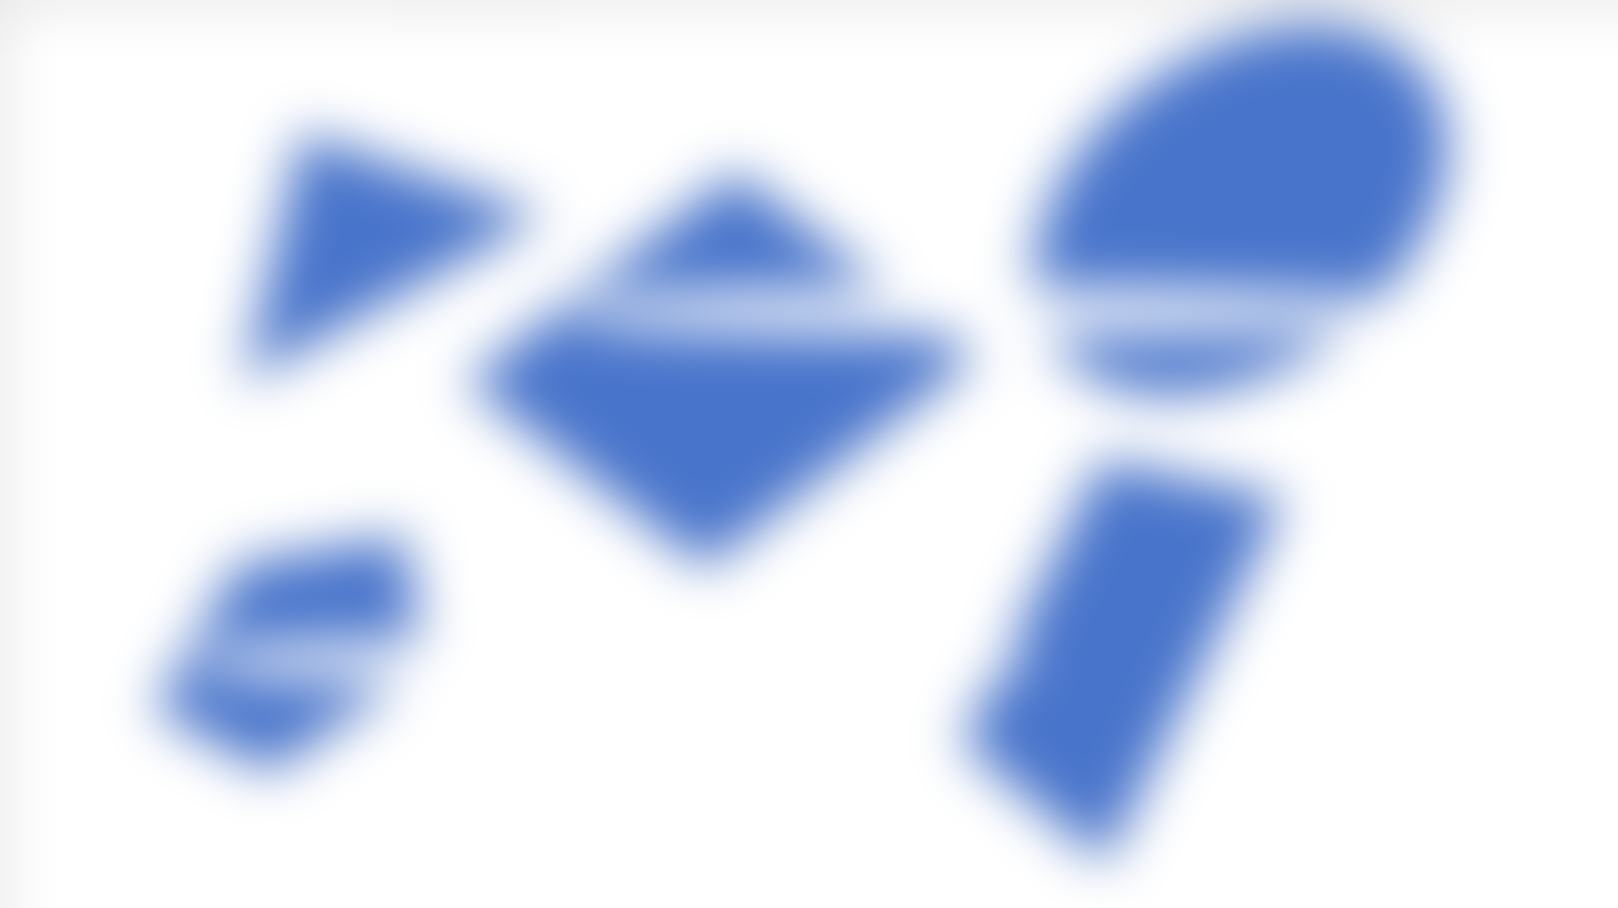circle: (1013, 11, 1514, 415)
parallelogram: (461, 166, 1002, 555)
pentagon: (154, 523, 460, 801)
trapezium: (926, 451, 1318, 858)
triangle: (196, 124, 527, 373)
